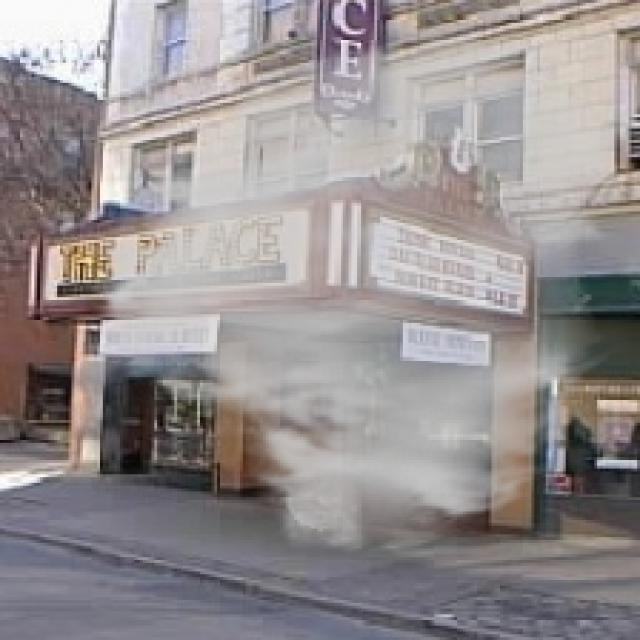smoke: (66, 20, 628, 557)
